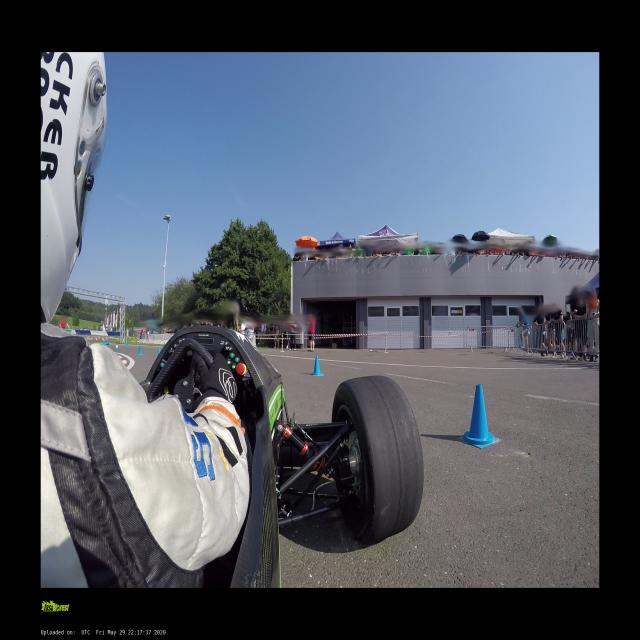blue_cone: (458, 383, 501, 450), (311, 356, 323, 376), (138, 344, 144, 356), (115, 342, 118, 352), (158, 348, 161, 355), (125, 341, 128, 347), (163, 342, 165, 347)
